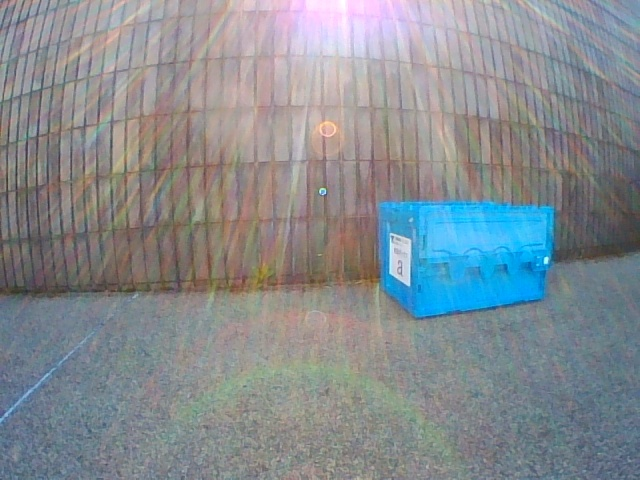blue_box: (377, 201, 554, 318)
tag_a: (394, 248, 407, 278)
